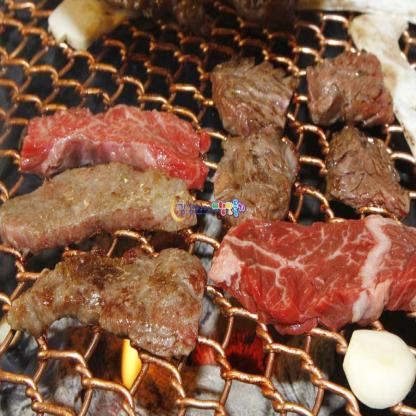Carne: (12, 249, 200, 344), (0, 168, 181, 243), (323, 133, 406, 213), (306, 51, 392, 123), (216, 138, 293, 217), (206, 64, 293, 131)
